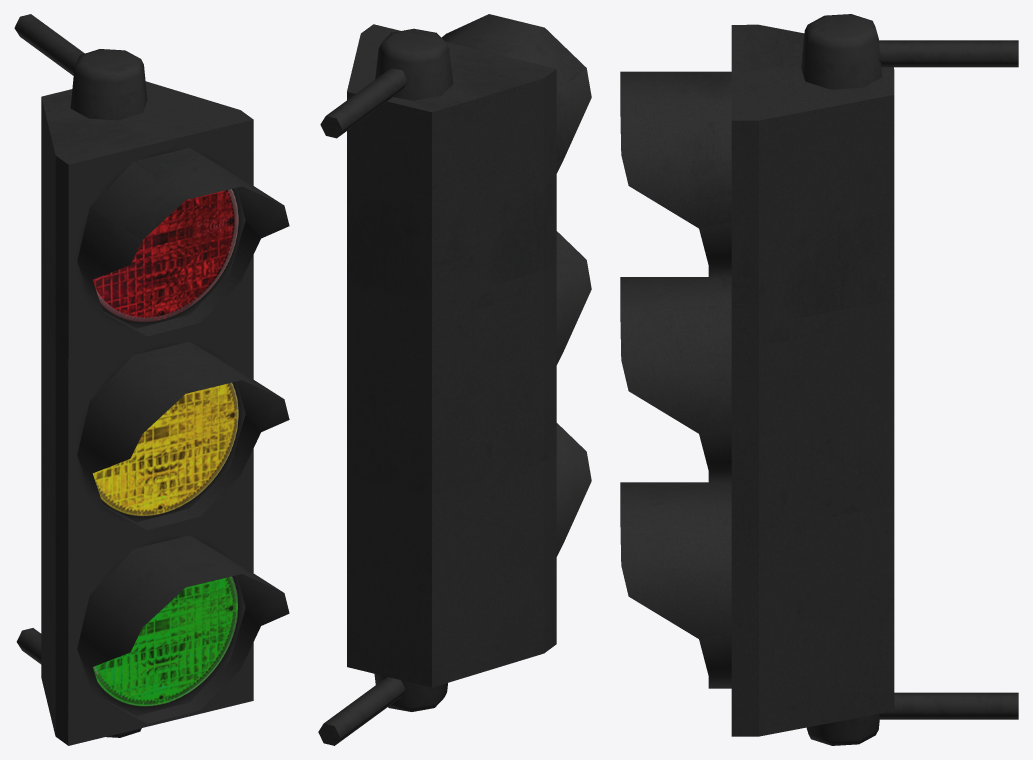
Rendered from Light_set_1.FBX.
3 views of the same model, side by side, from view 1: azimuth 30°, elevation 25°; view 2: azimuth 150°, elevation 25°; view 3: azimuth 270°, elevation 25° (orthographic). The views are drawn at different scales.
Parts seen in each view (by area): view 1: Light_set_1; view 2: Light_set_1; view 3: Light_set_1.
Part boxes in pixels (<box>): Light_set_1: <box>14,14,289,745</box>; Light_set_1: <box>318,14,591,745</box>; Light_set_1: <box>620,14,1018,745</box>.
Size of the model in its own units: 0.2507 by 0.862 by 0.4409.
